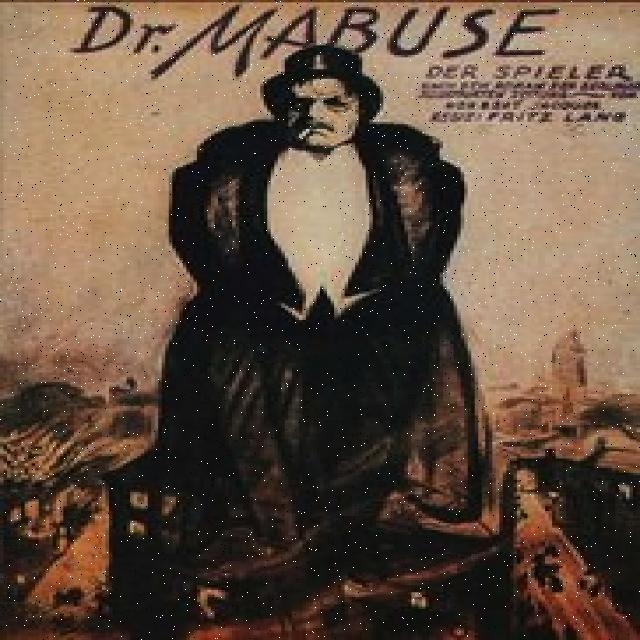movie-judul: (69, 1, 573, 72)
picture: (137, 58, 508, 546)
